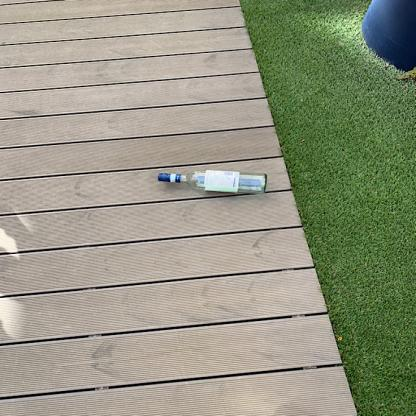trash: (154, 168, 272, 193)
